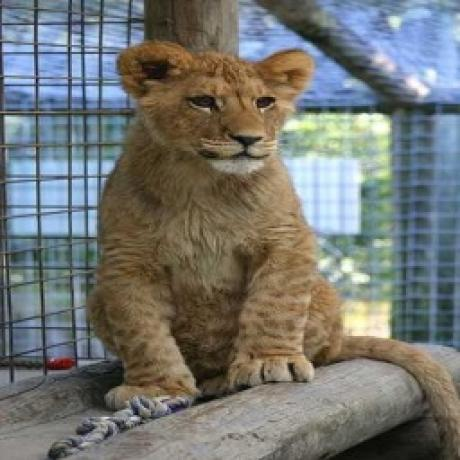Lion: (87, 34, 336, 415)
